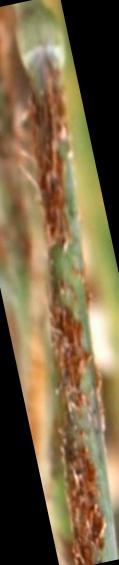Wheat: (36, 80, 72, 246), (61, 438, 101, 563), (46, 301, 89, 400)
